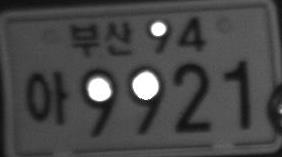1: (221, 59, 258, 130)
2: (172, 62, 211, 133)
4: (177, 16, 206, 52)
9: (126, 64, 164, 135), (80, 67, 118, 137), (145, 16, 173, 53)
부산_H: (68, 21, 132, 58)
아: (24, 70, 69, 126)
